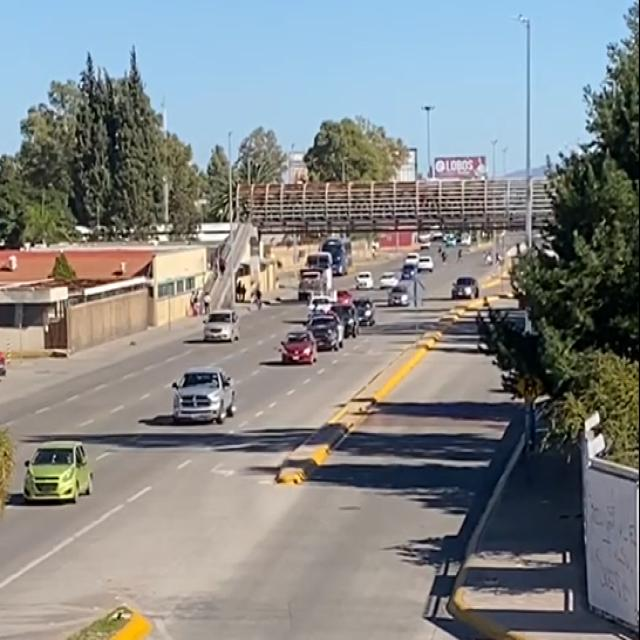Auto: (26, 443, 93, 502), (174, 371, 236, 420), (278, 335, 317, 367), (205, 311, 238, 340)
